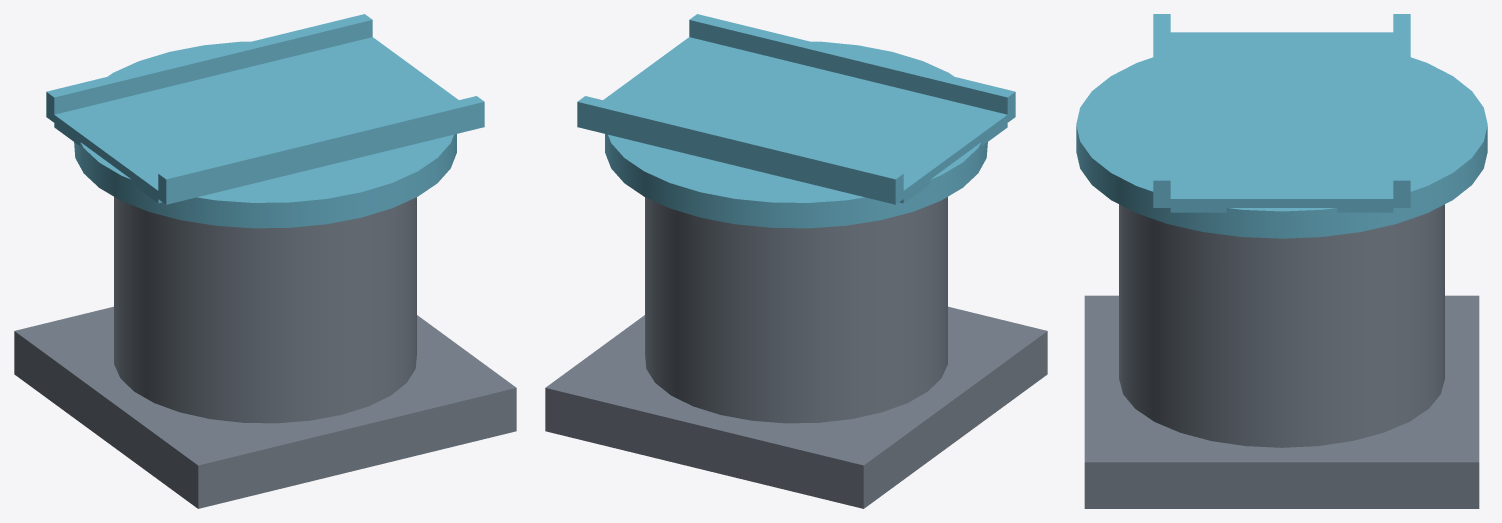
The model's file is rotary-turntable.glb.
3 renders of one model, left to right at view 1: azimuth 30°, elevation 25°; view 2: azimuth 150°, elevation 25°; view 3: azimuth 270°, elevation 25°, orthographic. The views are drawn at different scales.
Parts seen in each view (by area): view 1: Turntable_Pedestal_Base, Turntable_Index_Deck_Axis; view 2: Turntable_Pedestal_Base, Turntable_Index_Deck_Axis; view 3: Turntable_Pedestal_Base, Turntable_Index_Deck_Axis.
Boxes of the visible parts, bbox=[...] form: Turntable_Pedestal_Base: bbox=[14, 197, 516, 508]; Turntable_Index_Deck_Axis: bbox=[46, 14, 484, 228]; Turntable_Pedestal_Base: bbox=[545, 197, 1047, 508]; Turntable_Index_Deck_Axis: bbox=[577, 14, 1015, 228]; Turntable_Pedestal_Base: bbox=[1084, 204, 1479, 508]; Turntable_Index_Deck_Axis: bbox=[1076, 14, 1487, 238].
Bounding box in the file's own units: 0.96 × 0.845 × 0.96.
